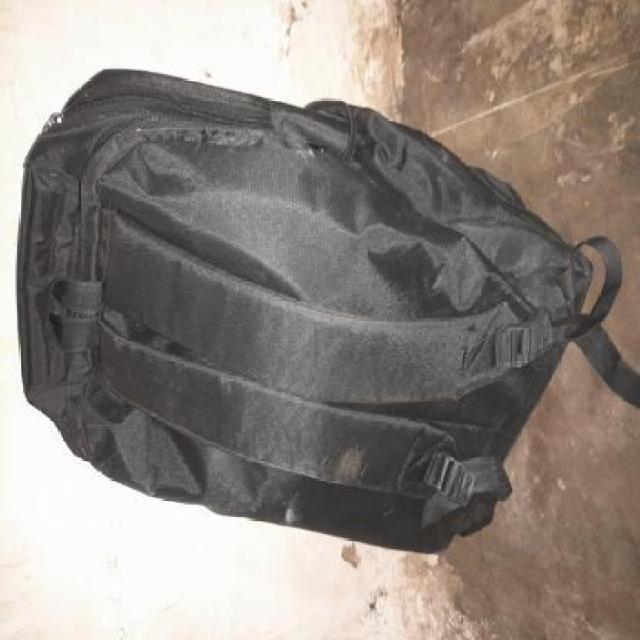backpack: (11, 63, 626, 560)
